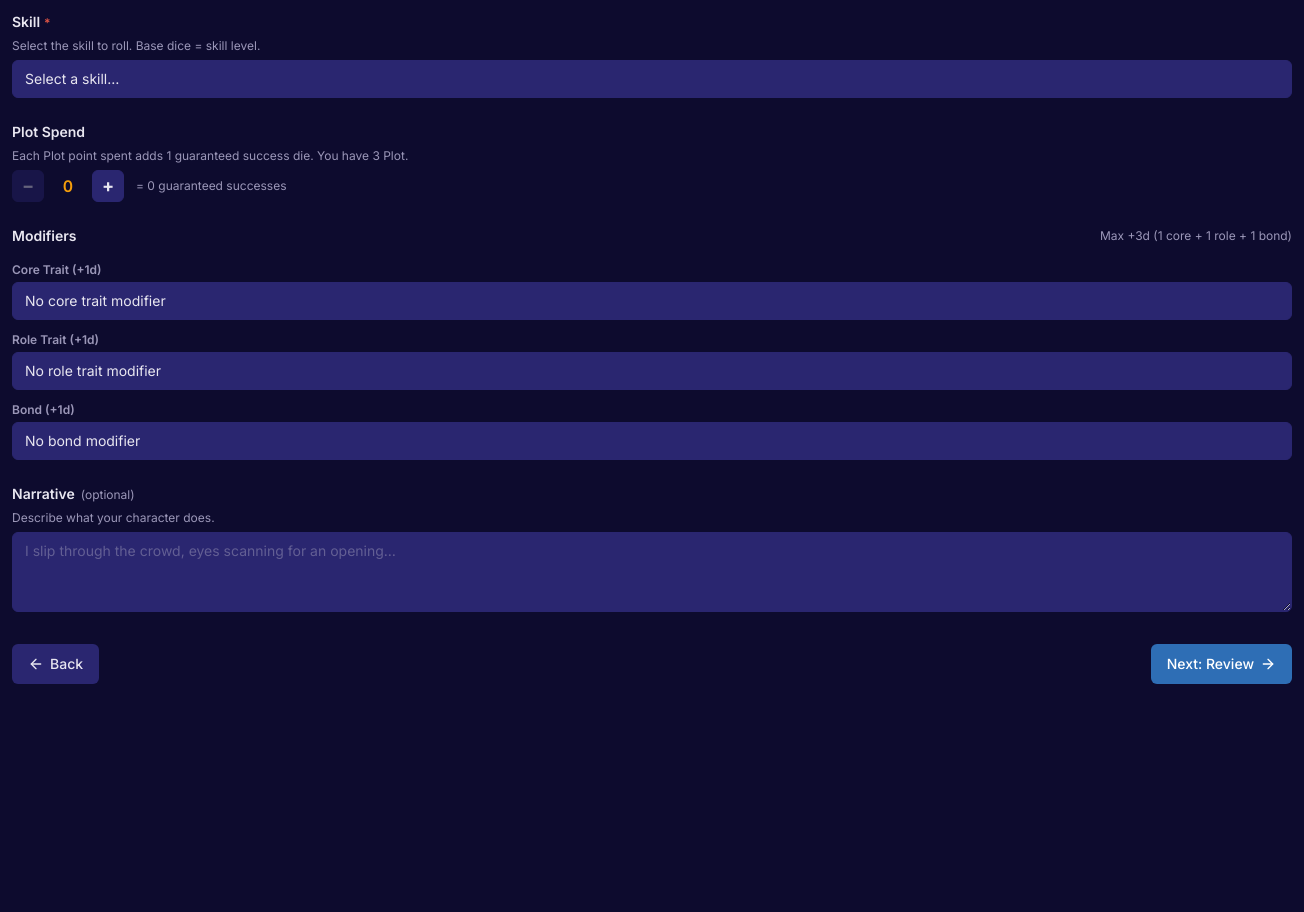
UseSkillForm › validation › shows error when skill is not selected on submit
The width and height of the screenshot is (1304, 912).
Click the button "Next: Review" at (1221, 664), box x1=1151 y1=644 x2=1292 y2=684
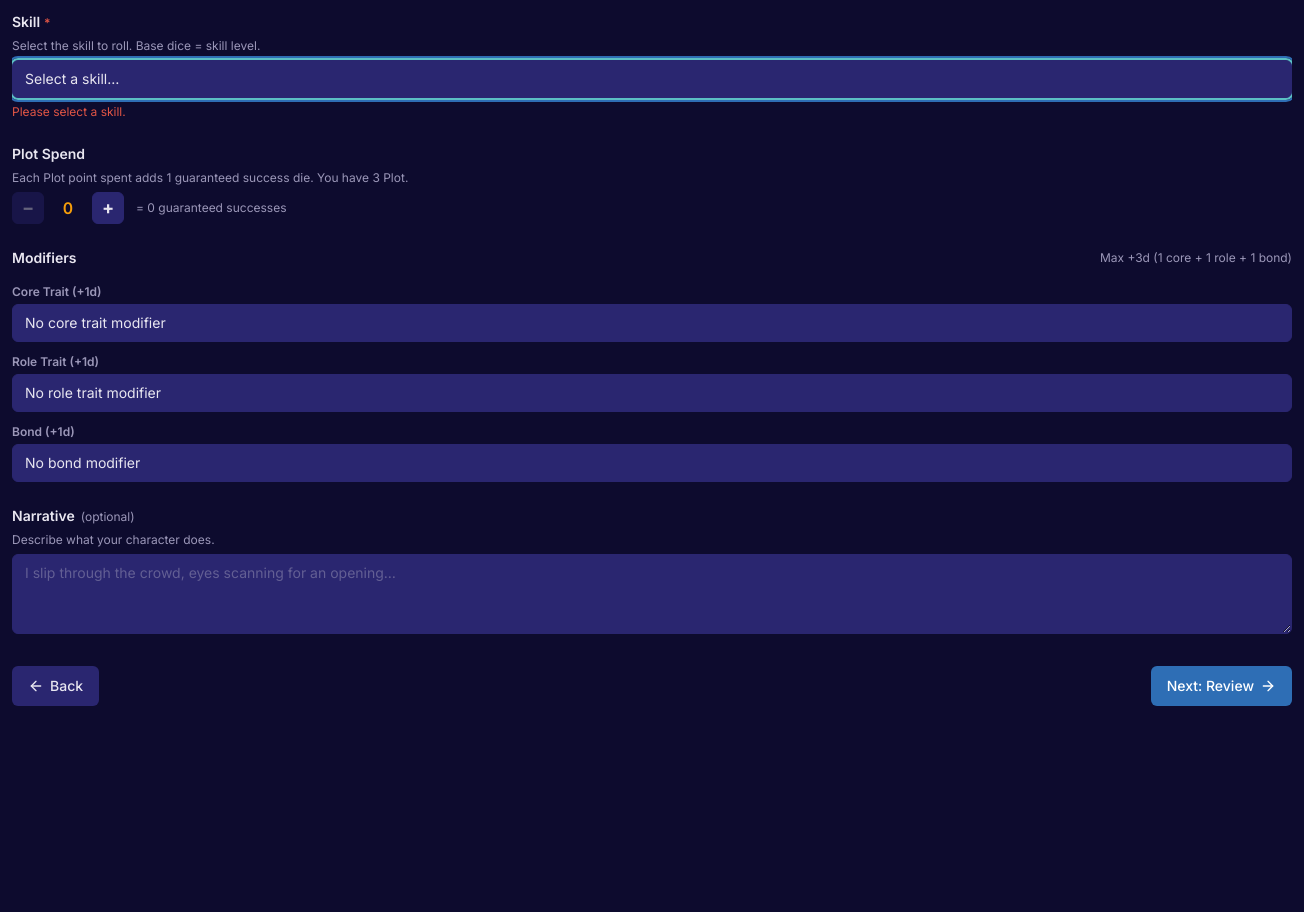
Result: the text "Please select a skill." is shown at x1=12 y1=104 x2=126 y2=119
